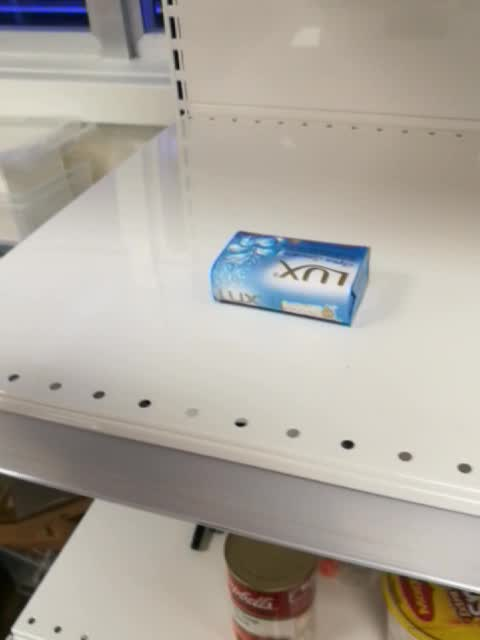soap: (209, 229, 370, 327)
